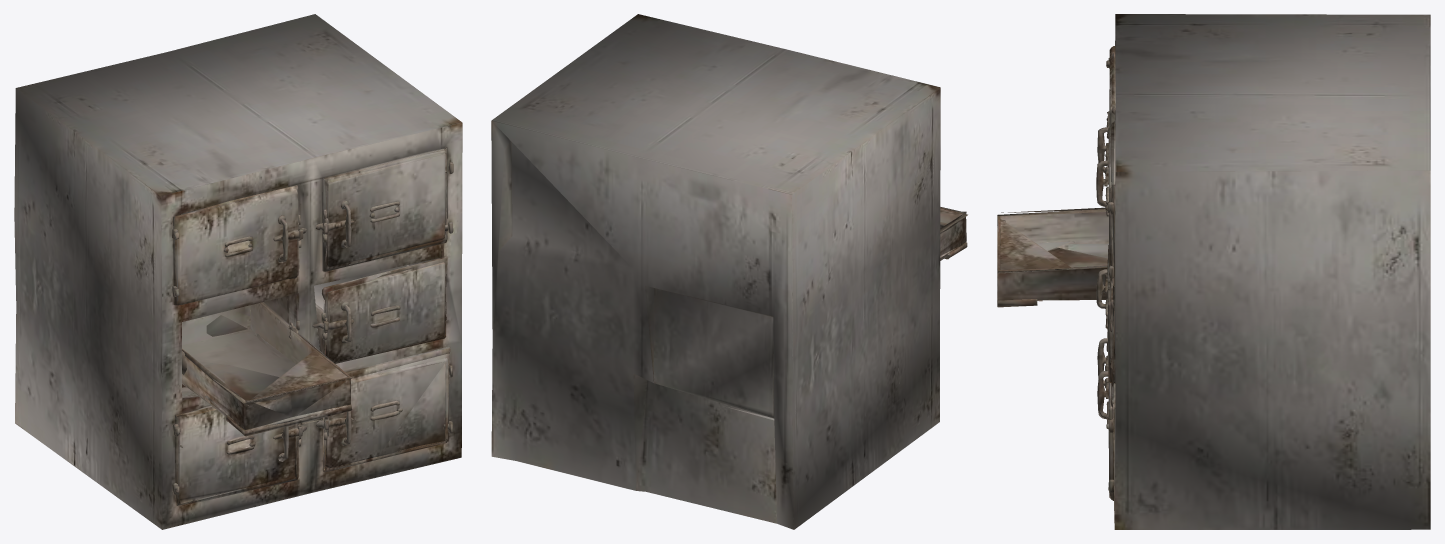
Rendered from morgue.glb.
3 views of the same model, side by side, from view 1: azimuth 30°, elevation 25°; view 2: azimuth 150°, elevation 25°; view 3: azimuth 270°, elevation 25° (orthographic). The views are drawn at different scales.
Size of the model in its own units: 0.8622 by 0.9167 by 1.
Materials: 1 (1 with a texture image).
